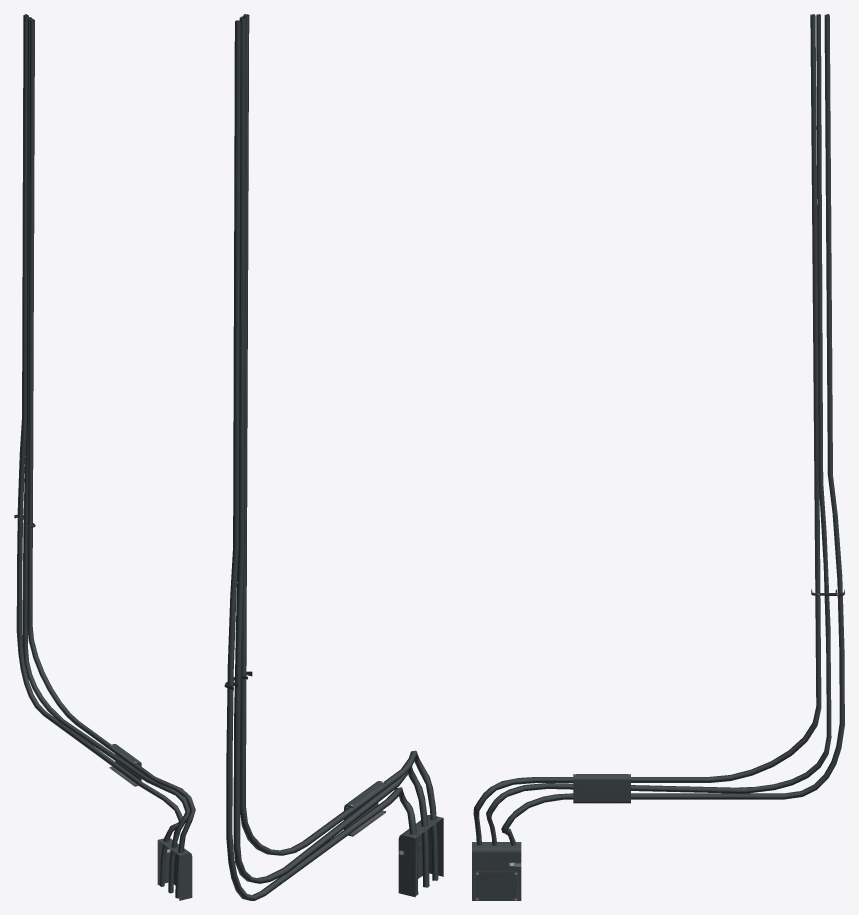
Rendered from SM_WallWire_01.fbx.
3 renders of one model, left to right at view 1: azimuth 30°, elevation 25°; view 2: azimuth 150°, elevation 25°; view 3: azimuth 270°, elevation 25°, orthographic. The views are drawn at different scales.
Visible parts, largest first — view 1: SM_WallWire_01_LOD1; view 2: SM_WallWire_01_LOD1; view 3: SM_WallWire_01_LOD1.
Part boxes in pixels (x1,y1,x2,y2): SM_WallWire_01_LOD1: (14,14,195,900); SM_WallWire_01_LOD1: (224,14,443,900); SM_WallWire_01_LOD1: (472,14,844,900).
Bounding box in the file's own units: 16.88 × 600 × 230.
